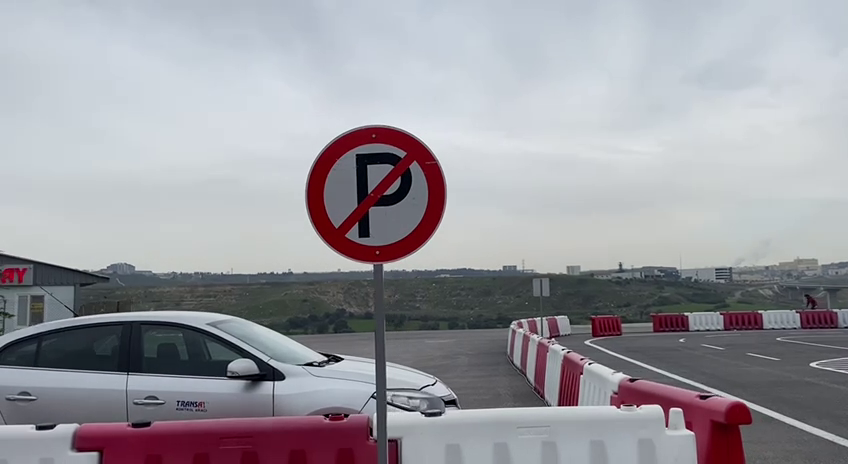noparking: (301, 121, 454, 270)
